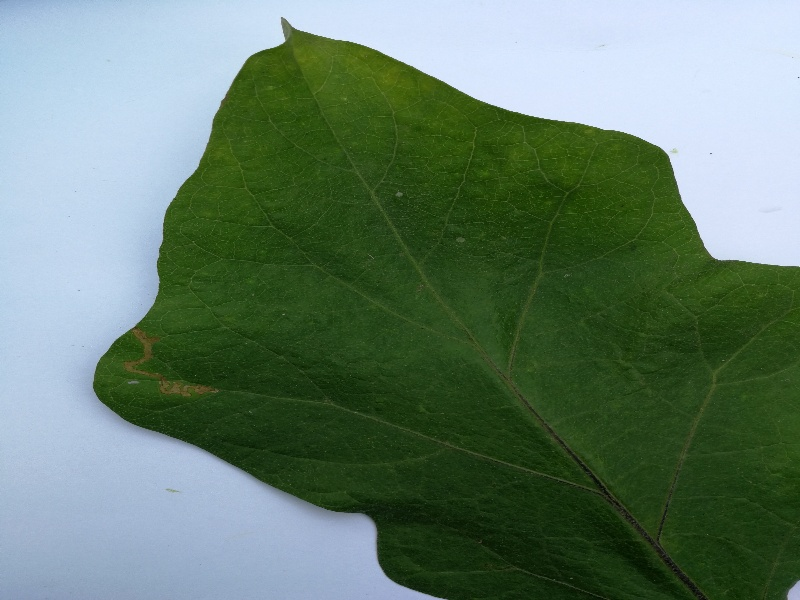leafminer: (115, 325, 227, 405)
